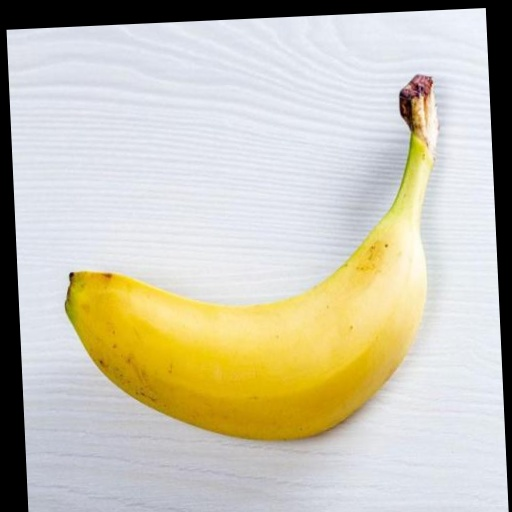fruit: (65, 76, 437, 439)
